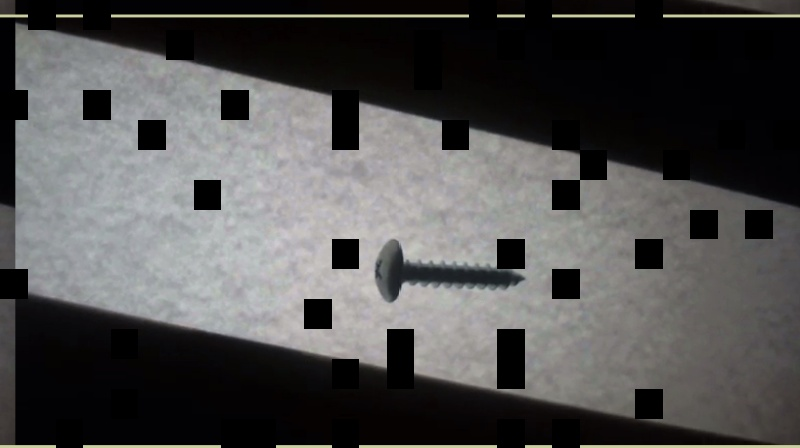S003: (370, 236, 531, 305)
